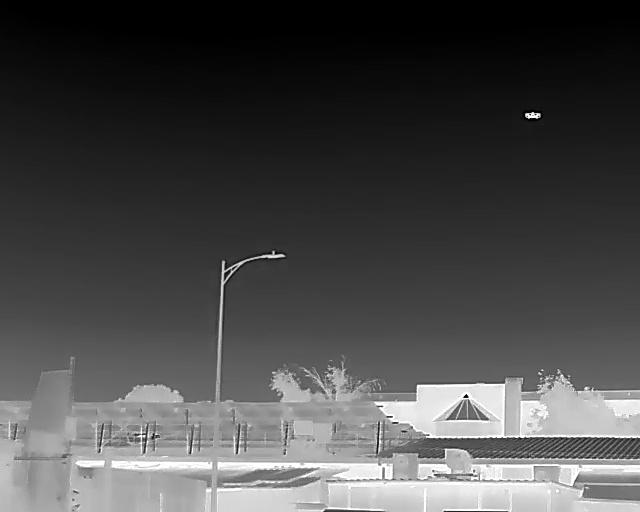fpv-drone: (524, 112, 541, 119)
